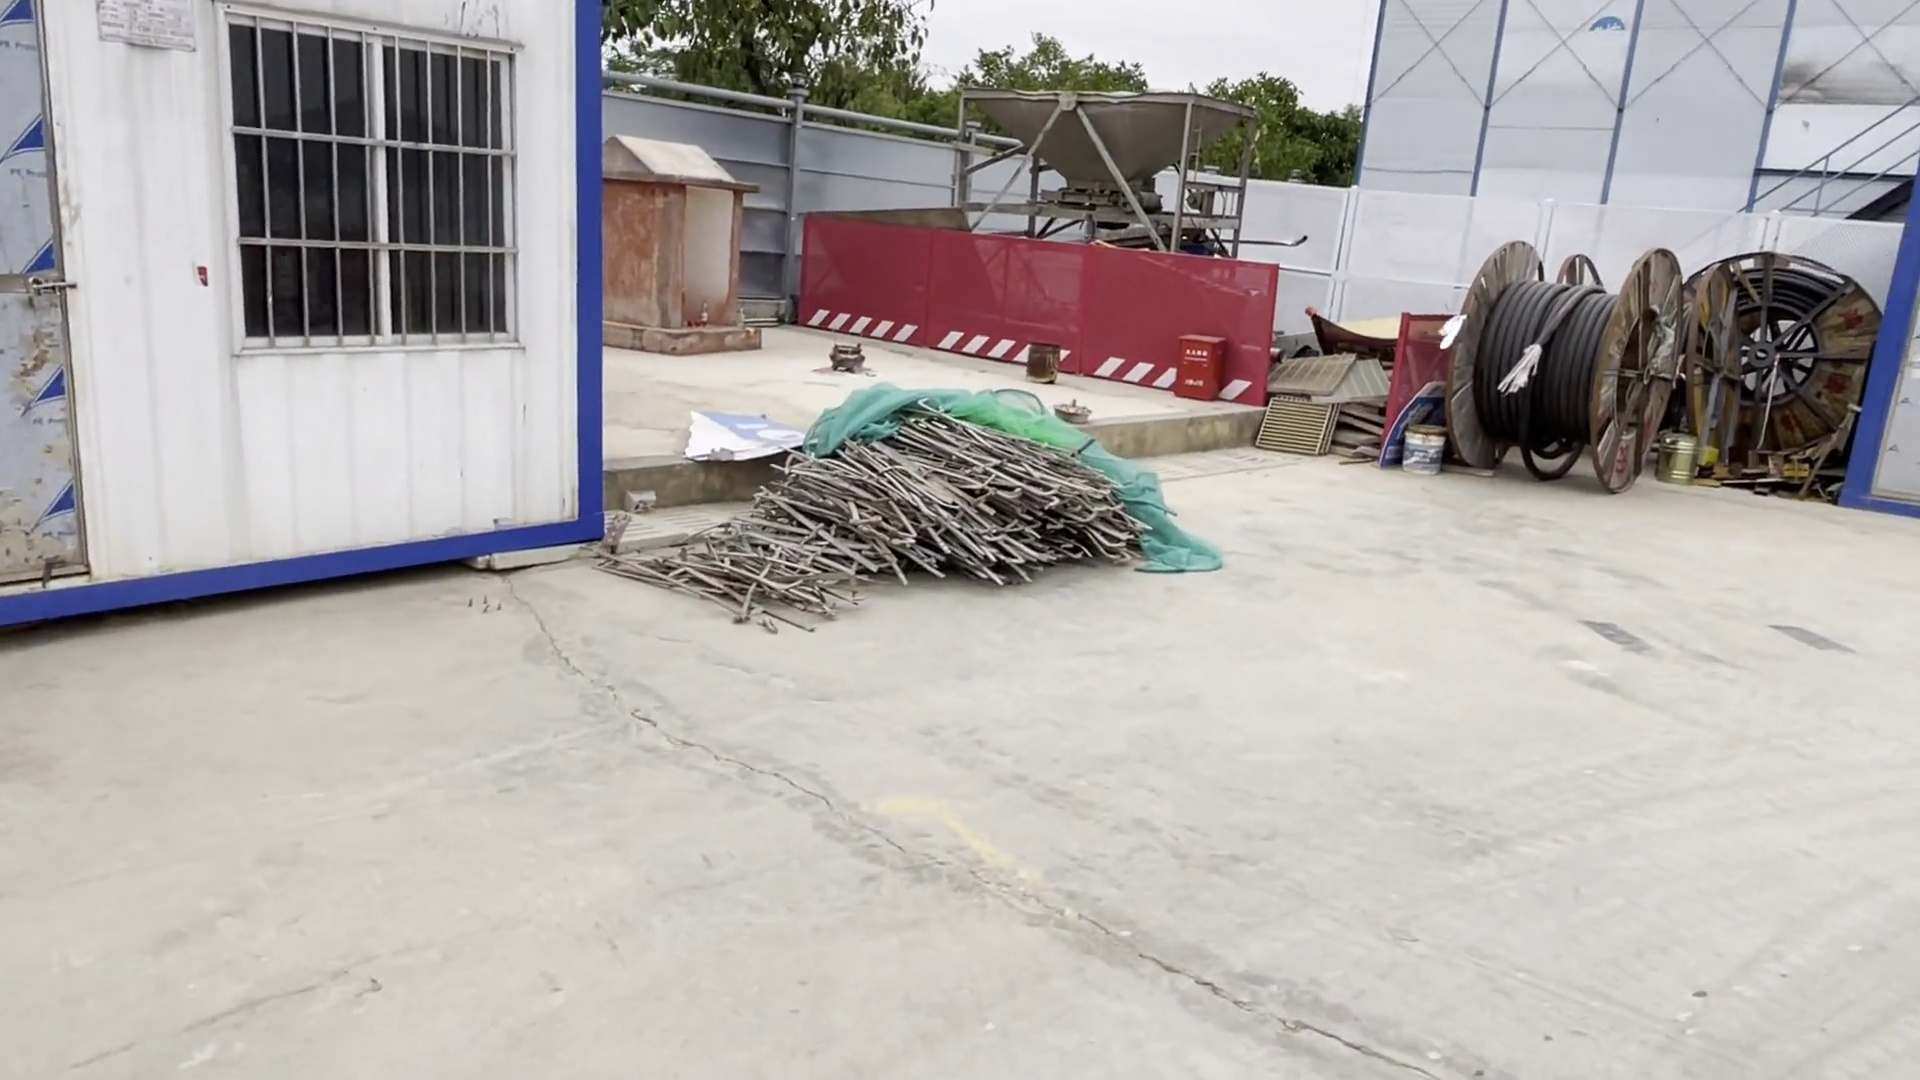fence: (786, 218, 1284, 418)
